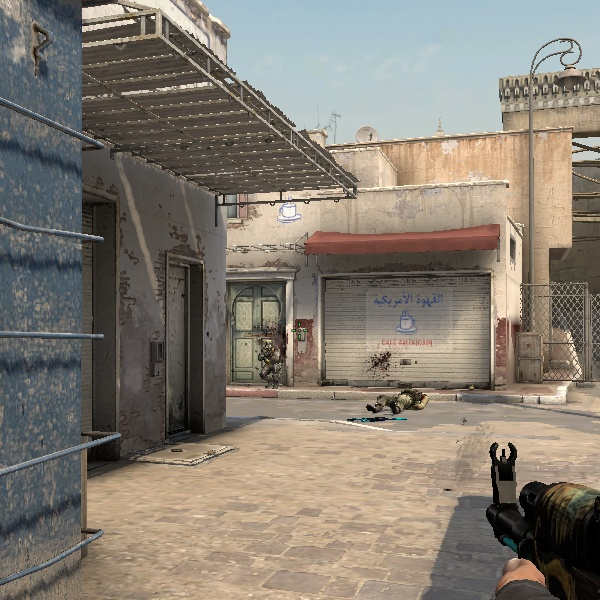ct_body: (253, 336, 278, 385)
